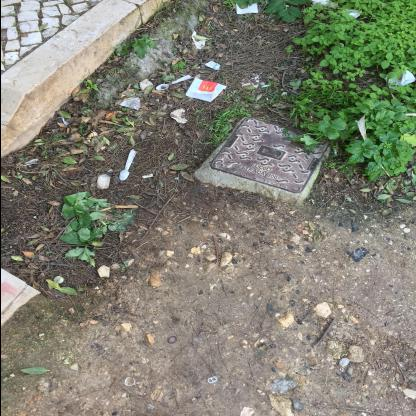kagit: (184, 78, 226, 102), (235, 2, 258, 14), (204, 60, 220, 70)
plastik: (154, 74, 191, 90), (119, 150, 136, 180)
